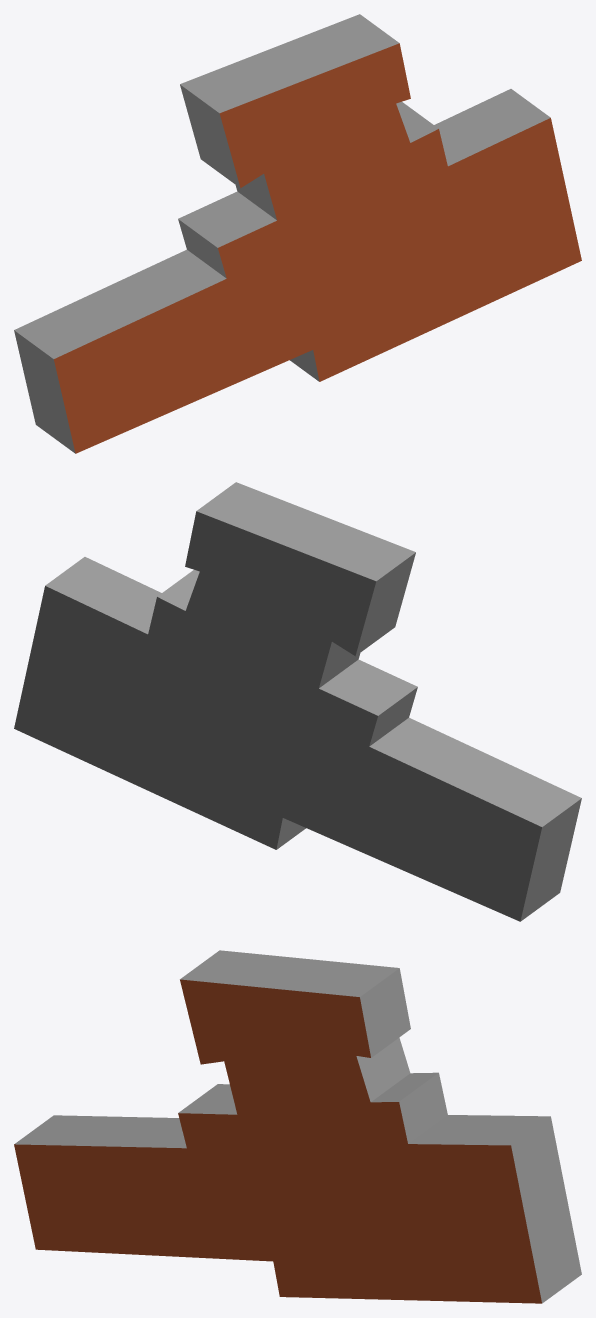
File: construction_2465_assumed_A_Casa_h6m.obj
The picture shows the model from 3 angles, top to bottom: view 1: azimuth 30°, elevation 25°; view 2: azimuth 150°, elevation 25°; view 3: azimuth 330°, elevation 25°; orthographic projection.
Visible parts, largest first — view 1: construction_2465_assumed_A_Casa; view 2: construction_2465_assumed_A_Casa; view 3: construction_2465_assumed_A_Casa.
Part boxes in pixels (x1=…): construction_2465_assumed_A_Casa: x1=14, y1=14, x2=581, y2=453; construction_2465_assumed_A_Casa: x1=14, y1=482, x2=581, y2=921; construction_2465_assumed_A_Casa: x1=14, y1=950, x2=581, y2=1303.
Size of the model in its own units: 45.96 by 27.57 by 6.
